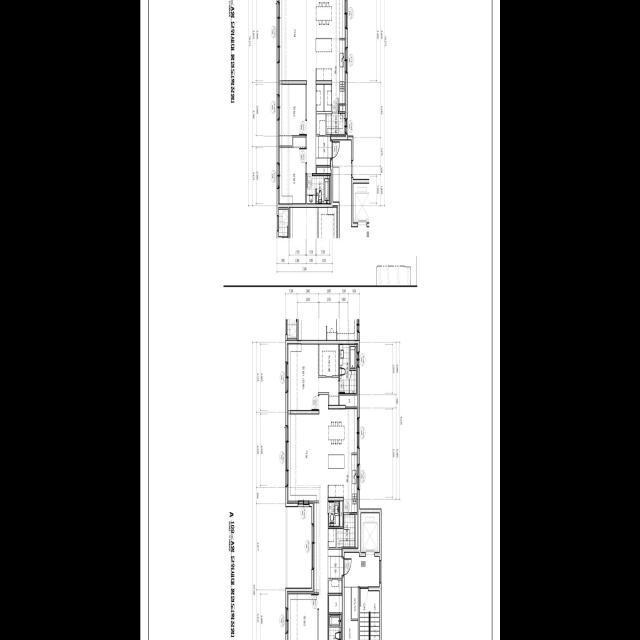background: (140, 0, 500, 640)
space_balconi: (326, 114, 346, 136)
space_bedroom: (286, 344, 338, 410), (278, 137, 305, 204), (278, 85, 305, 146), (287, 591, 317, 640)
space_dressroom: (319, 344, 338, 375)
space_elevator: (361, 513, 379, 557)
space_elevator_hall: (332, 140, 351, 238), (344, 553, 379, 587)
space_front: (316, 114, 331, 165), (328, 550, 343, 593)
space_kitchen: (328, 409, 358, 512), (332, 40, 346, 111)
space_living_room: (278, 0, 346, 173), (286, 395, 328, 640)
space_multipurpose_space: (336, 515, 354, 549)
space_other: (344, 588, 358, 640), (339, 395, 358, 407), (351, 588, 358, 619), (329, 596, 342, 612), (324, 85, 331, 111), (316, 85, 323, 111), (328, 529, 335, 547), (355, 515, 358, 549), (317, 168, 331, 173), (340, 501, 342, 526), (340, 106, 345, 111)
space_staircase: (360, 591, 379, 640)
space_toilet: (339, 345, 356, 393), (306, 176, 329, 203), (329, 615, 340, 640), (329, 502, 338, 526)
